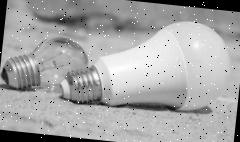lightbulb: (57, 8, 235, 119), (0, 29, 90, 97)
